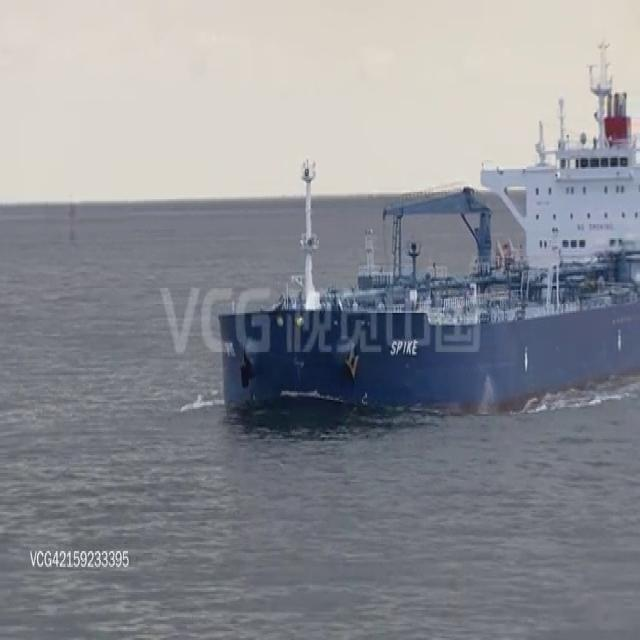cargoship: (213, 74, 640, 405)
